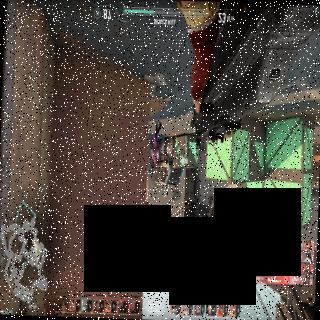ENEMY-BODY: (150, 120, 162, 166)
ENEMY-HEAD: (154, 158, 156, 165)
